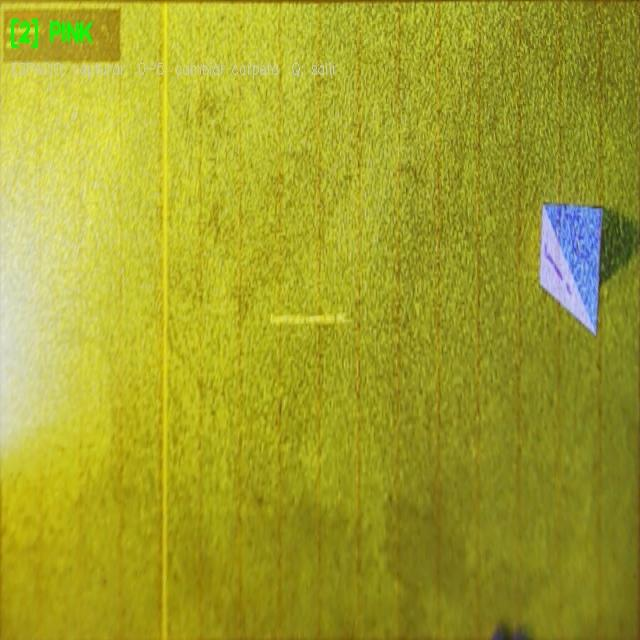pink: (541, 203, 602, 333)
